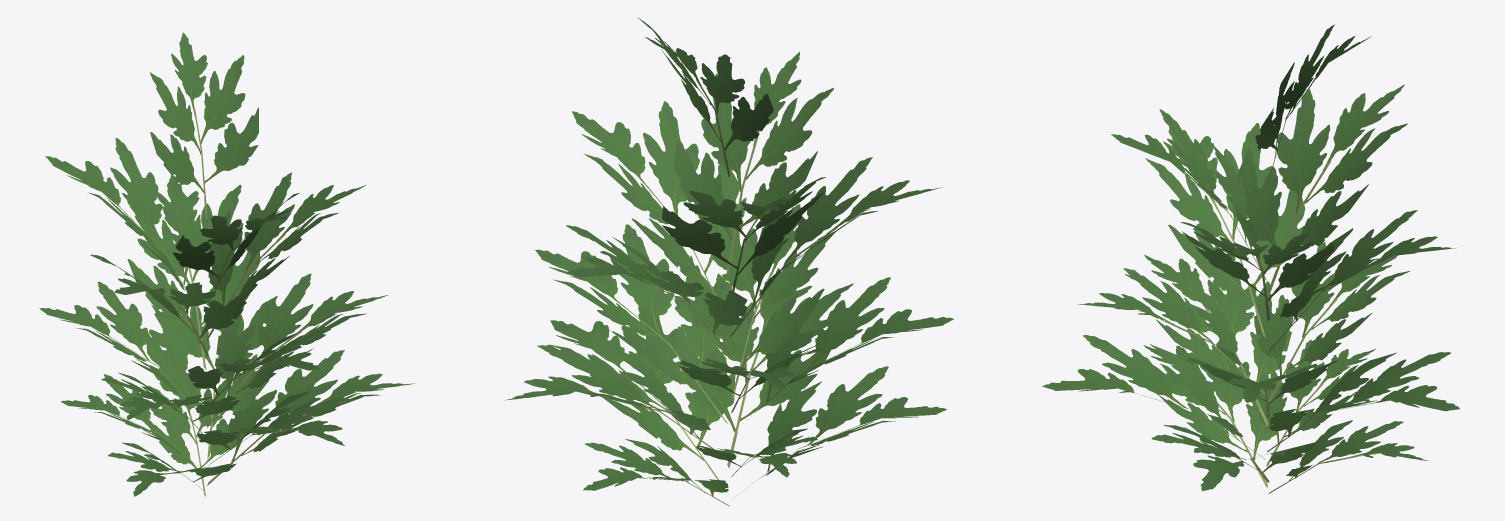
File: Plant1.fbx
3 views of the same model, side by side, from view 1: azimuth 30°, elevation 25°; view 2: azimuth 150°, elevation 25°; view 3: azimuth 270°, elevation 25° (orthographic). The views are drawn at different scales.
Visible parts, largest first — view 1: Tree_0; view 2: Tree_0; view 3: Tree_0.
Part boxes in pixels (x1,y1,x2,y2): Tree_0: (39, 32, 415, 496); Tree_0: (505, 17, 954, 506); Tree_0: (1042, 24, 1459, 494).
Size of the model in its own units: 56.56 by 65.26 by 58.03.
Materials: 1 (1 with a texture image).
